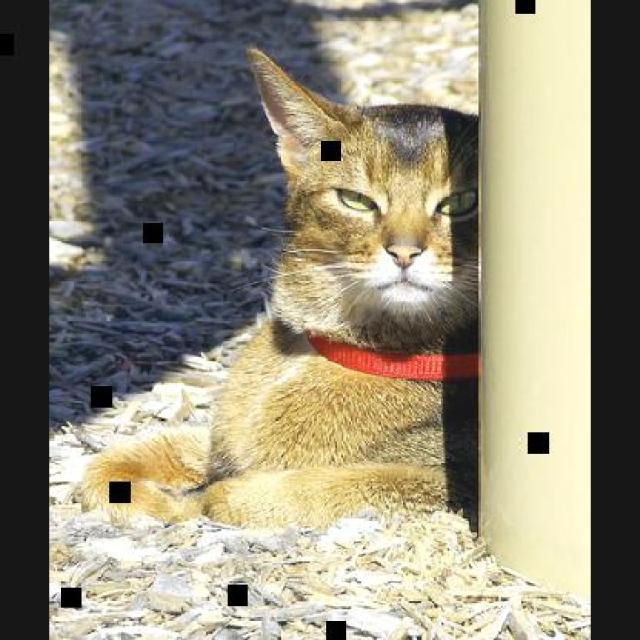unauthorized: (72, 45, 480, 532)
